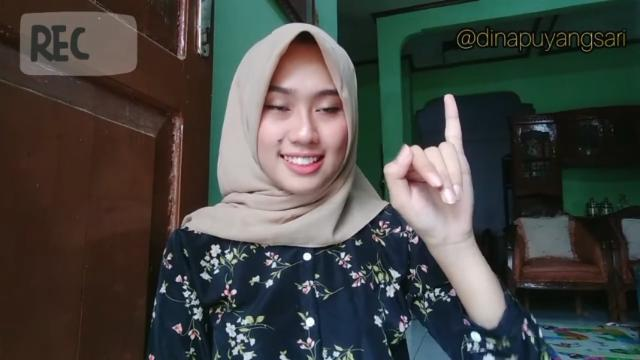I: (382, 94, 476, 238)
